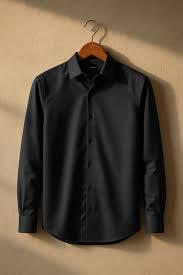shirt: (16, 49, 172, 247)
